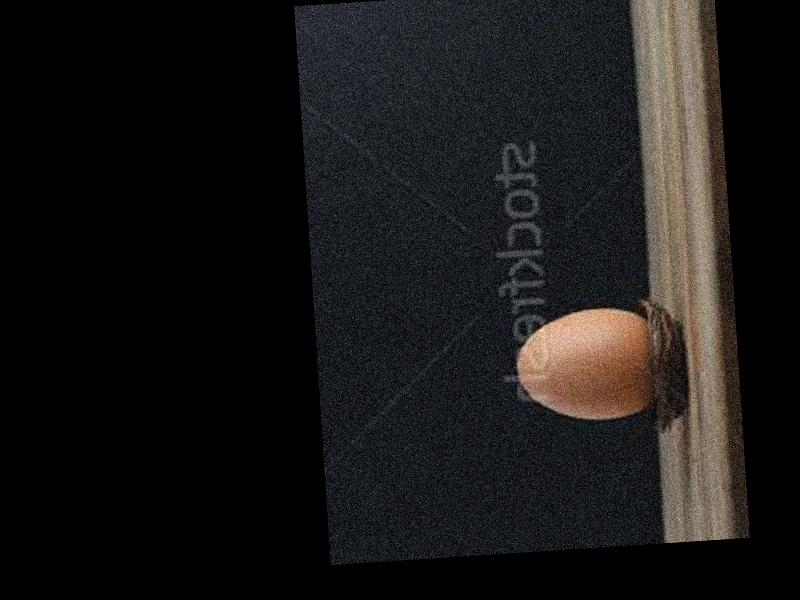Eggs: (514, 307, 657, 426)
